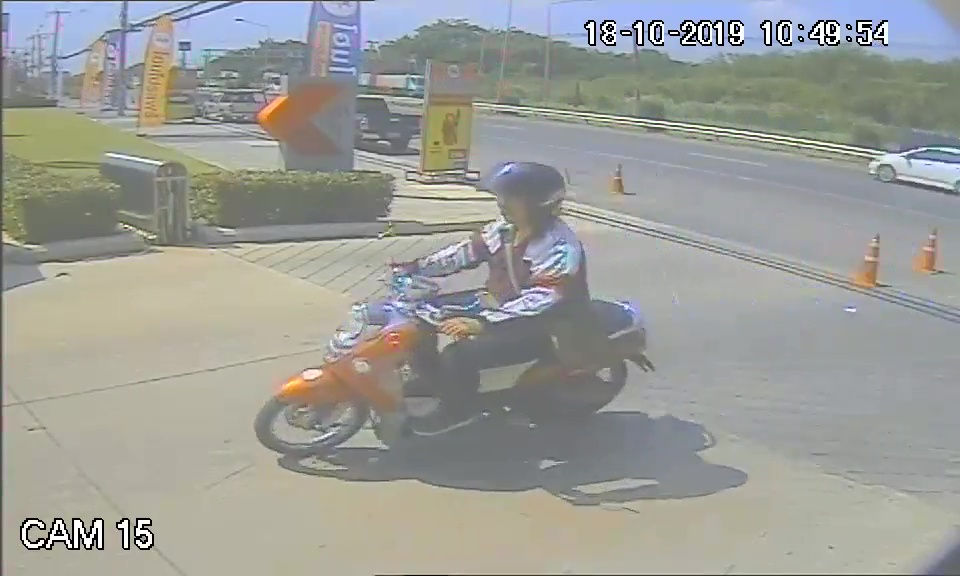motorcycle: (251, 268, 660, 463)
